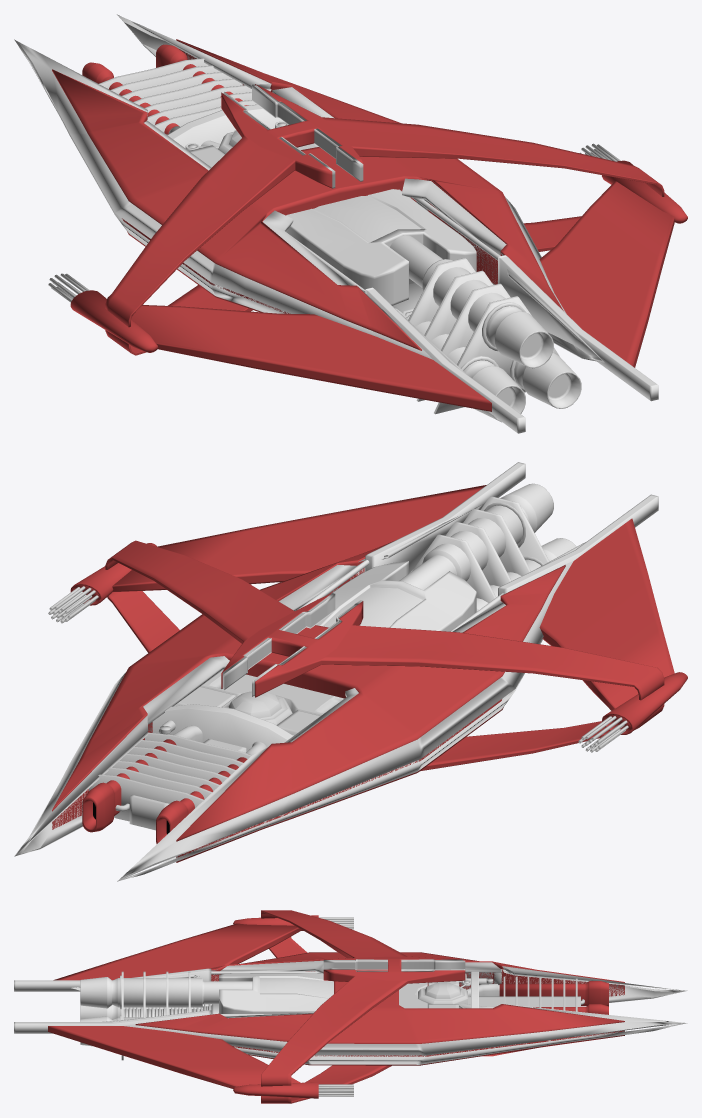
The model's file is StarCruiser.dae.
3 views of the same model, one above another, from view 1: azimuth 30°, elevation 25°; view 2: azimuth 150°, elevation 25°; view 3: azimuth 270°, elevation 25° (orthographic). The views are drawn at different scales.
Parts seen in each view (by area): view 1: Plane, Plane_003, Plane_004, Plane_006, Circle, Plane_001, Plane_010, Plane_002, Plane_005, Plane_011, Circle_004, Circle_002 (+2 smaller); view 2: Plane, Plane_003, Plane_004, Plane_006, Plane_010, Circle, Plane_001, Plane_002, Plane_011, Plane_008, Circle_004, Plane_005 (+4 smaller); view 3: Plane, Plane_003, Plane_004, Circle, Plane_006, Plane_001, Circle_004, Plane_005, Plane_002, Plane_009, Circle_007, Plane_008 (+4 smaller).
Boxes of the visible parts, x1=… form: Plane: x1=70, y1=84, x2=687, y2=411; Plane_003: x1=52, y1=39, x2=563, y2=350; Plane_004: x1=14, y1=14, x2=604, y2=373; Plane_006: x1=286, y1=189, x2=476, y2=305; Circle: x1=390, y1=235, x2=581, y2=422; Plane_001: x1=365, y1=255, x2=658, y2=433; Plane_010: x1=98, y1=58, x2=256, y2=132; Plane_002: x1=403, y1=258, x2=559, y2=414; Plane_005: x1=223, y1=85, x2=363, y2=188; Plane_011: x1=167, y1=104, x2=284, y2=148; Circle_004: x1=82, y1=44, x2=248, y2=134; Circle_002: x1=48, y1=143, x2=620, y2=302; Plane: x1=70, y1=485, x2=687, y2=771; Plane_003: x1=52, y1=541, x2=565, y2=862; Plane_004: x1=14, y1=504, x2=585, y2=881; Plane_006: x1=316, y1=561, x2=476, y2=631; Plane_010: x1=89, y1=732, x2=251, y2=821; Circle: x1=399, y1=483, x2=576, y2=611; Plane_001: x1=365, y1=462, x2=658, y2=595; Plane_002: x1=412, y1=496, x2=549, y2=602; Plane_011: x1=152, y1=704, x2=293, y2=751; Plane_008: x1=174, y1=670, x2=344, y2=735; Circle_004: x1=82, y1=739, x2=247, y2=843; Plane_005: x1=222, y1=593, x2=362, y2=696; Plane: x1=48, y1=910, x2=465, y2=1103; Plane_003: x1=135, y1=952, x2=624, y2=1065; Plane_004: x1=71, y1=960, x2=687, y2=1064; Circle: x1=80, y1=977, x2=252, y2=1046; Plane_006: x1=219, y1=973, x2=333, y2=1013; Plane_001: x1=14, y1=968, x2=211, y2=1033; Circle_004: x1=499, y1=981, x2=608, y2=1014; Plane_005: x1=323, y1=959, x2=465, y2=971; Plane_002: x1=121, y1=971, x2=213, y2=1060; Plane_009: x1=468, y1=996, x2=580, y2=1006; Circle_007: x1=418, y1=982, x2=467, y2=1008; Plane_008: x1=399, y1=981, x2=458, y2=1008.
Bounding box in the file's own units: 3.97 × 6.4 × 0.8856.
